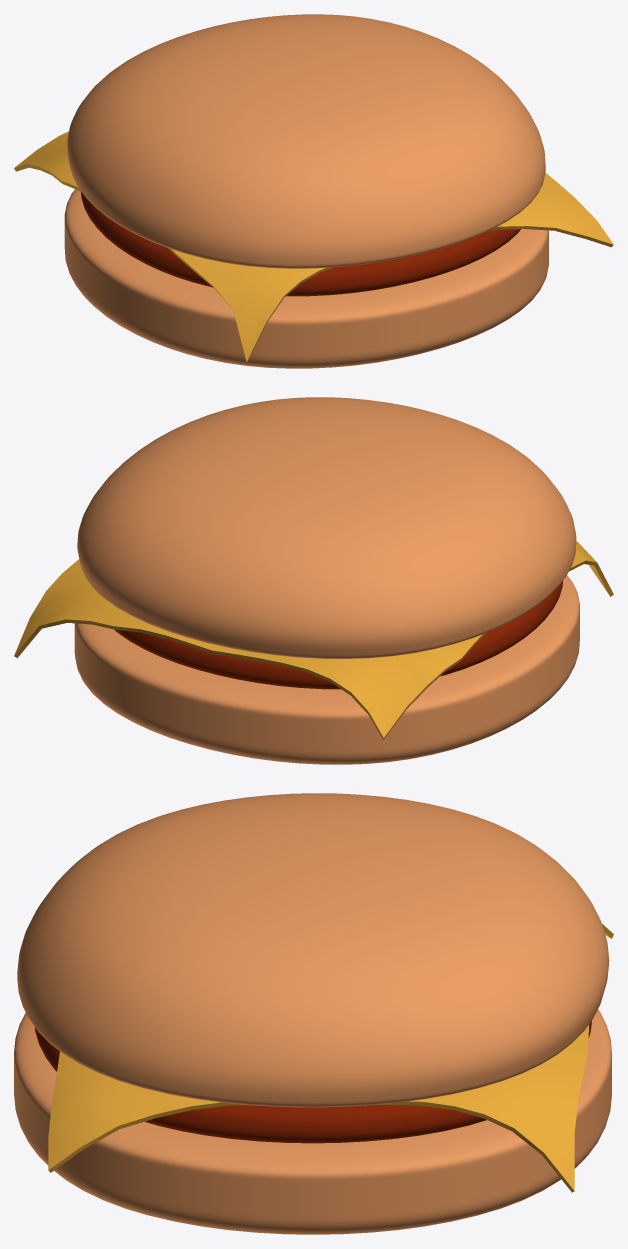
File: hamburgercopy.glb
The picture shows the model from 3 angles, top to bottom: view 1: azimuth 30°, elevation 25°; view 2: azimuth 150°, elevation 25°; view 3: azimuth 270°, elevation 25°; orthographic projection. The views are drawn at different scales.
Parts seen in each view (by area): view 1: Cube.002, Cube, Plane, Cube.001; view 2: Cube.002, Cube, Plane, Cube.001; view 3: Cube.002, Cube, Plane, Cube.001.
Boxes of the visible parts, x1,y1,x2,y2 form: Cube.002: (67,14,545,268); Cube: (64,189,548,368); Plane: (14,131,613,362); Cube.001: (81,192,520,296); Cube.002: (77,397,576,658); Cube: (74,575,579,764); Plane: (14,541,613,739); Cube.001: (114,581,562,689); Cube.002: (17,793,609,1107); Cube: (14,1009,611,1234); Plane: (48,924,613,1192); Cube.001: (34,1021,591,1143).
Bounding box in the file's own units: 9.1 × 4.72 × 9.13.
